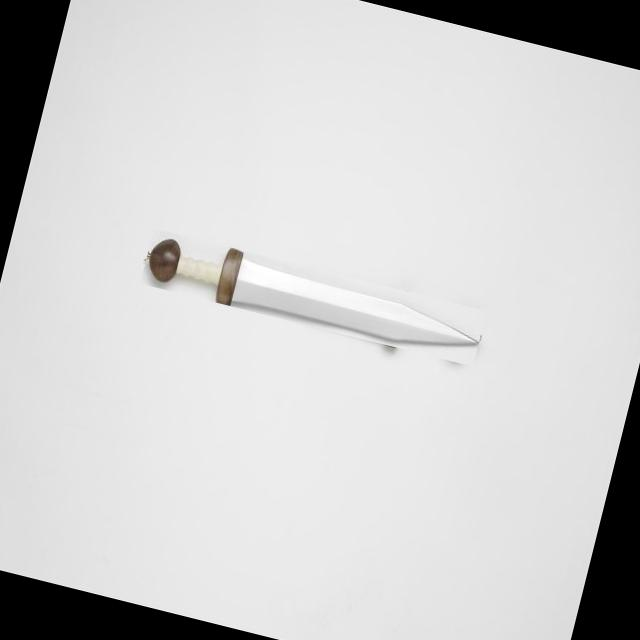Knife: (148, 239, 478, 346)
